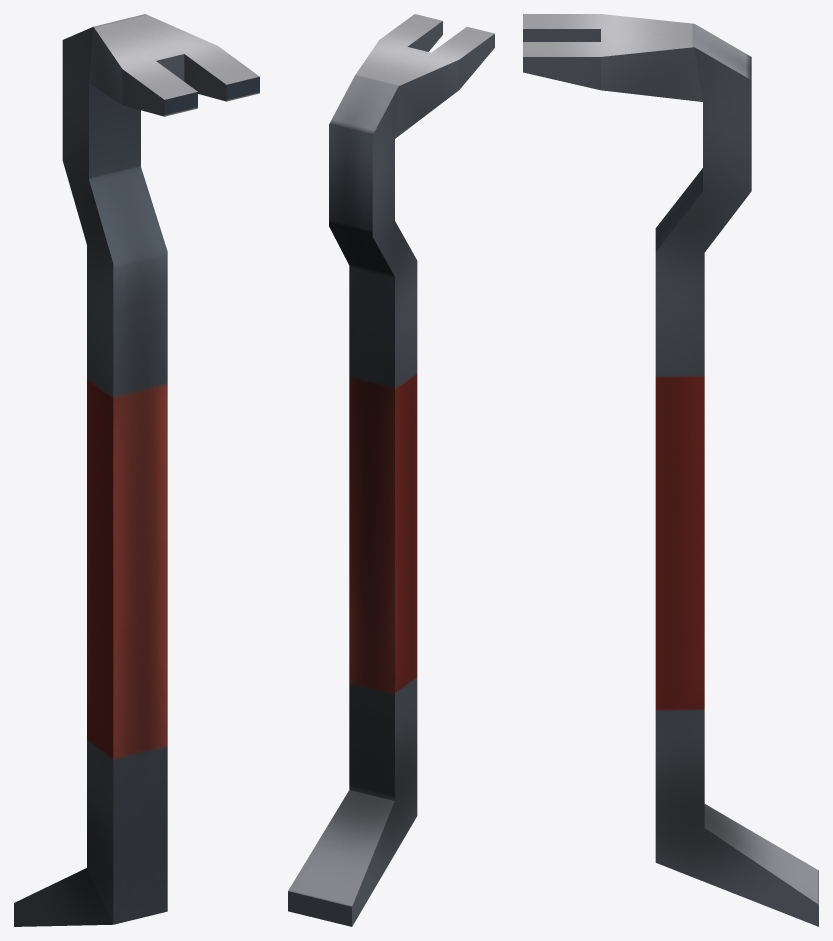
File: weapon_crowbar.FBX
3 views of the same model, side by side, from view 1: azimuth 30°, elevation 25°; view 2: azimuth 150°, elevation 25°; view 3: azimuth 270°, elevation 25° (orthographic). The views are drawn at different scales.
Visible parts, largest first — view 1: weapon_crowbar; view 2: weapon_crowbar; view 3: weapon_crowbar.
Part boxes in pixels (box(x1,y1,x2,y2)): weapon_crowbar: box(14, 14, 259, 926); weapon_crowbar: box(288, 14, 494, 926); weapon_crowbar: box(523, 14, 818, 926).
Size of the model in its own units: 9.64 by 91.49 by 28.06.
